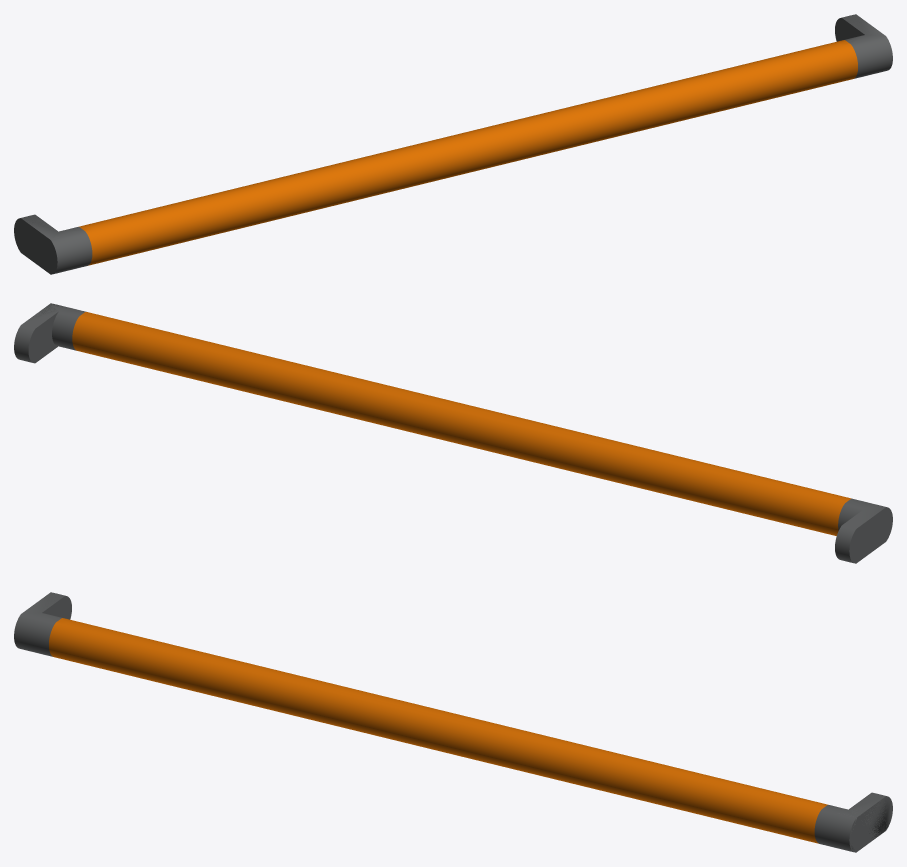
3 views of the same model, one above another, from view 1: azimuth 30°, elevation 25°; view 2: azimuth 150°, elevation 25°; view 3: azimuth 330°, elevation 25° (orthographic).
Parts seen in each view (by area): view 1: g4_LOD0, g4_col; view 2: g4_LOD0, g4_col; view 3: g4_LOD0, g4_col.
Part boxes in pixels (left/top/right/bottom): g4_LOD0: left=14, top=14, right=892, bottom=274; g4_col: left=14, top=17, right=874, bottom=274; g4_LOD0: left=14, top=303, right=892, bottom=563; g4_col: left=22, top=303, right=891, bottom=557; g4_LOD0: left=14, top=592, right=892, bottom=852; g4_col: left=22, top=593, right=892, bottom=849.
Size of what is drawn, in the model's own units: 288 by 11.93 by 26.
